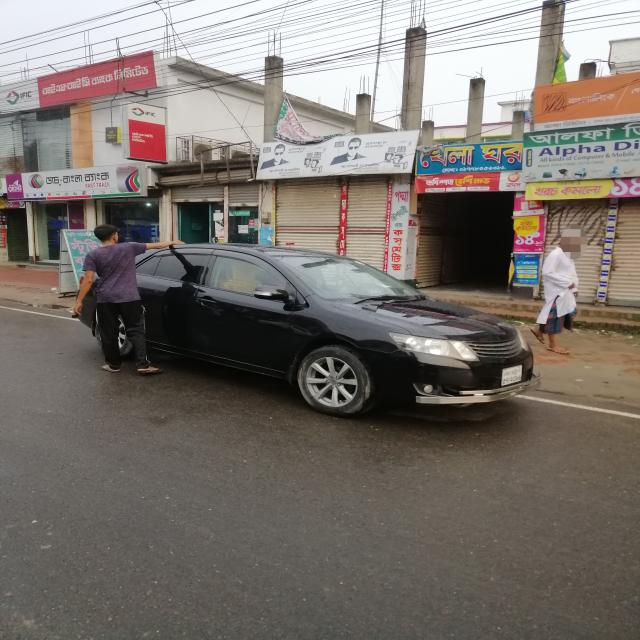Car: (74, 246, 538, 421)
